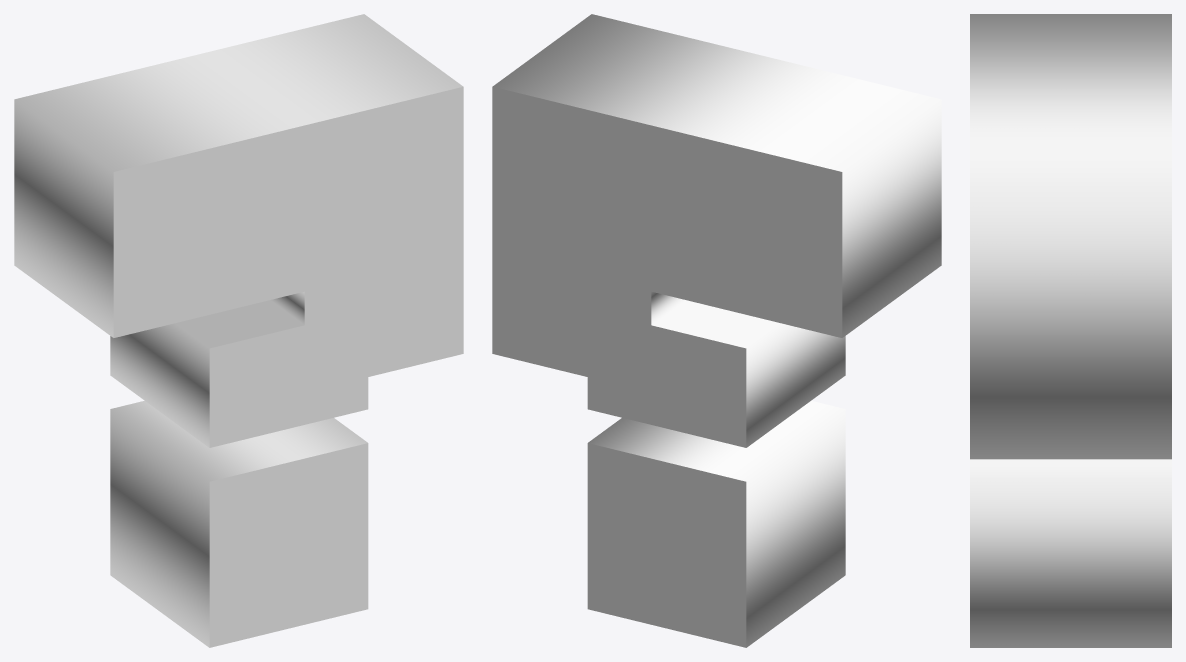
The model's file is unknown.glb.
3 renders of one model, left to right at view 1: azimuth 30°, elevation 25°; view 2: azimuth 150°, elevation 25°; view 3: azimuth 270°, elevation 25°, orthographic.
Visible parts, largest first — view 1: Unknown; view 2: Unknown; view 3: Unknown.
Boxes of the visible parts, box(x1,y1,x2,y2) form: Unknown: box(14, 14, 463, 647); Unknown: box(492, 14, 941, 647); Unknown: box(970, 14, 1171, 647).
Bounding box in the file's own units: 0.4577 × 0.6243 × 0.225.
Materials: 1 (1 with a texture image).
